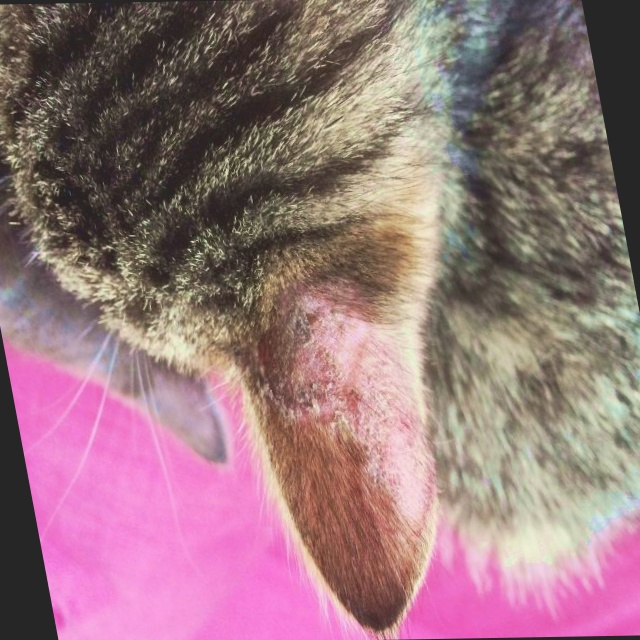ringworm: (276, 290, 446, 530)
